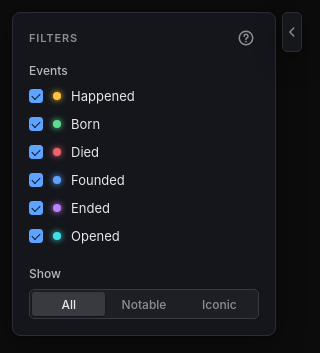
Test case: SidePanel › hides the sections but keeps the toggle when collapsed
The image size is (320, 353).
What coordinates should you click on to do the following:
click the button named "Filters panel"
I would click on:
 (292, 32)
Its box is top-left (282, 12), bottom-right (302, 52).
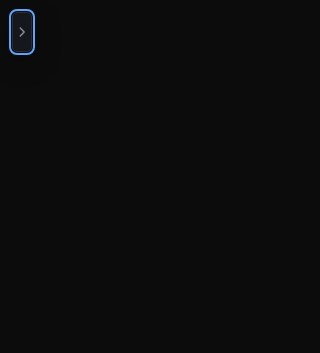
Expected: the button named "Filters panel" is collapsed, top-left (12, 12), bottom-right (32, 52)
Expected: the heading "Filters" is gone
